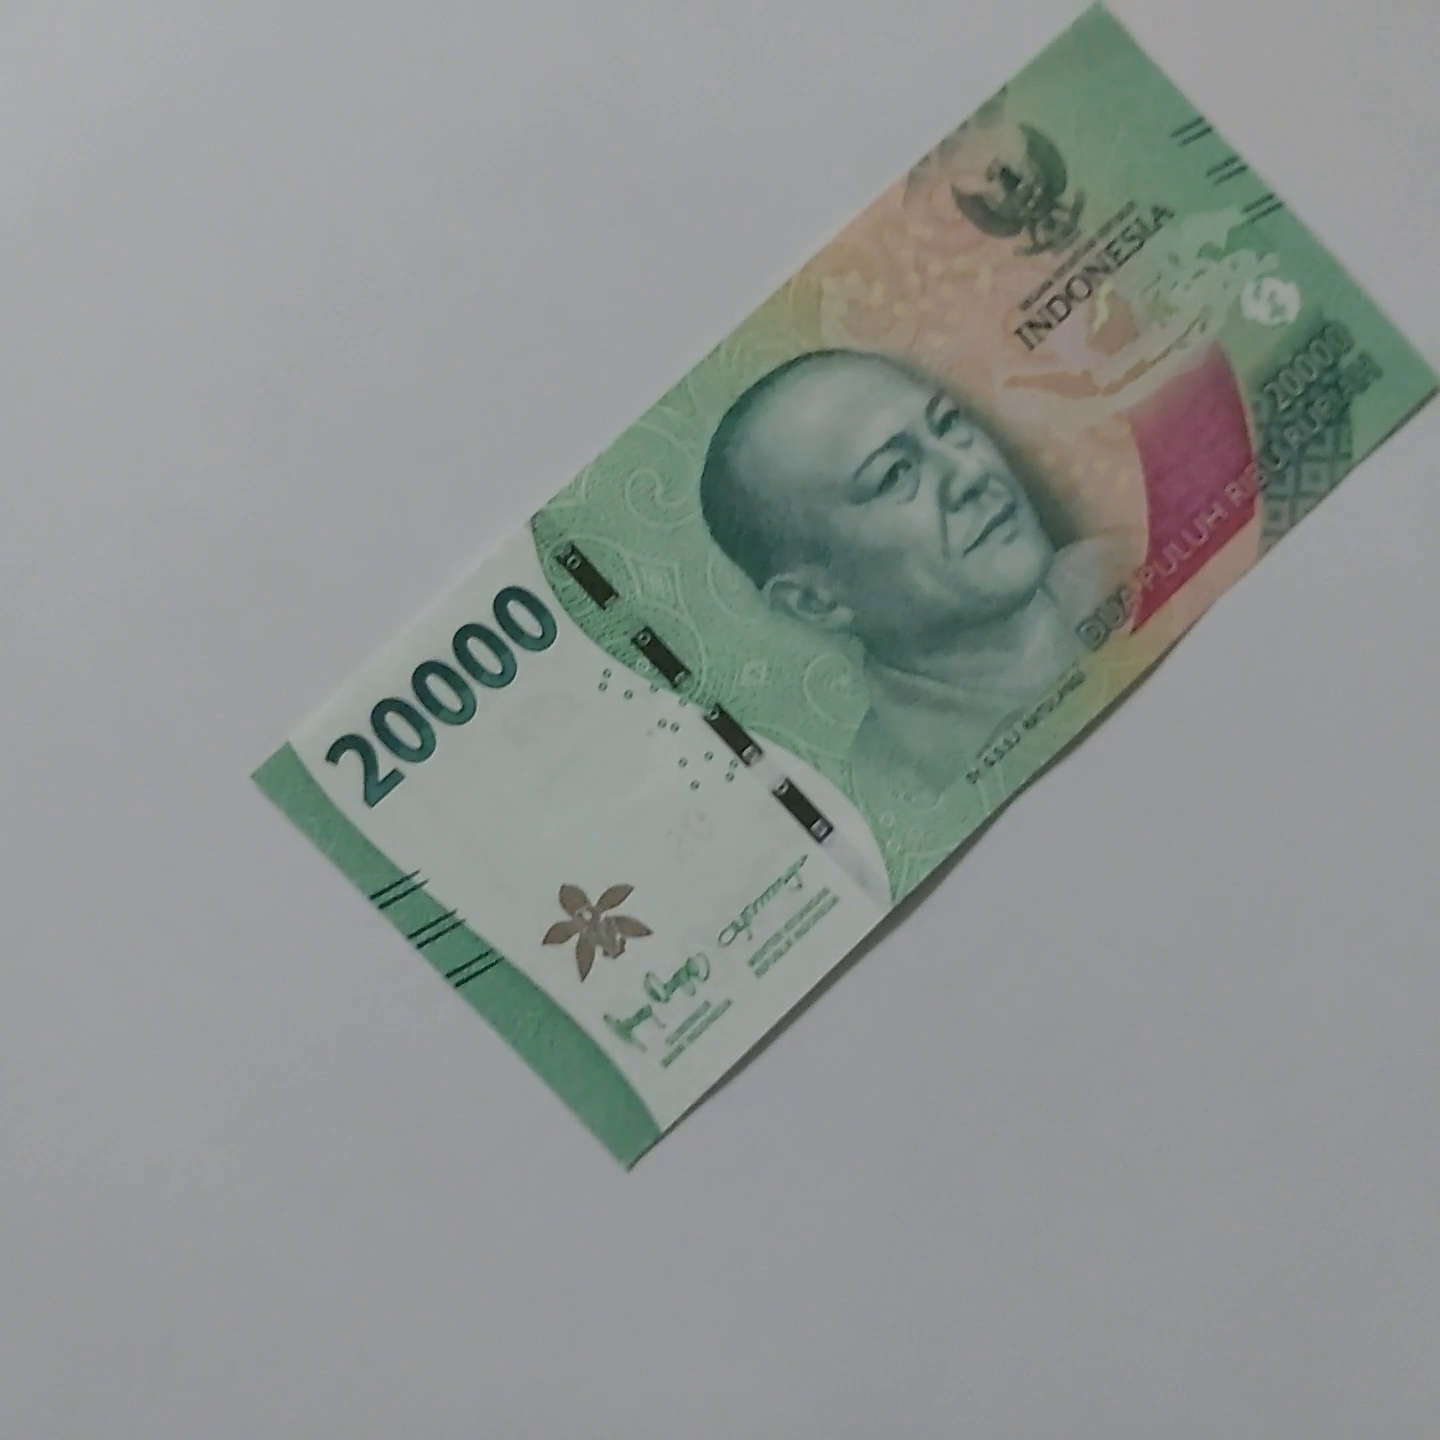20k: (1087, 0, 1440, 1138)
